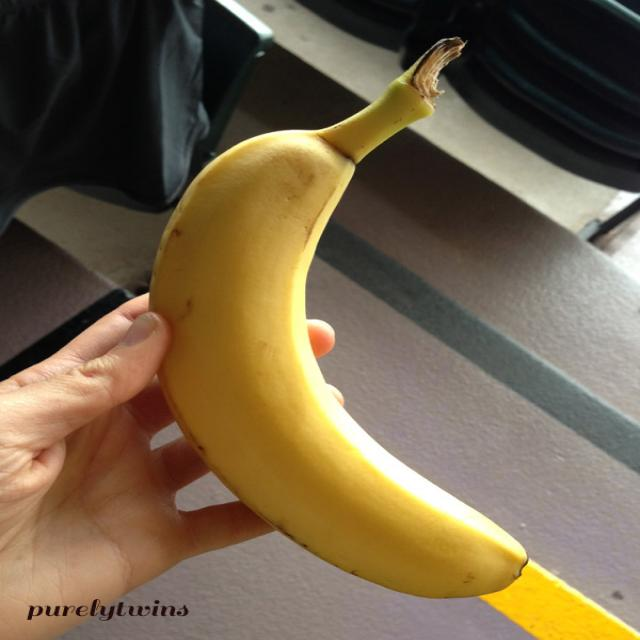Banana: (145, 32, 540, 602)
